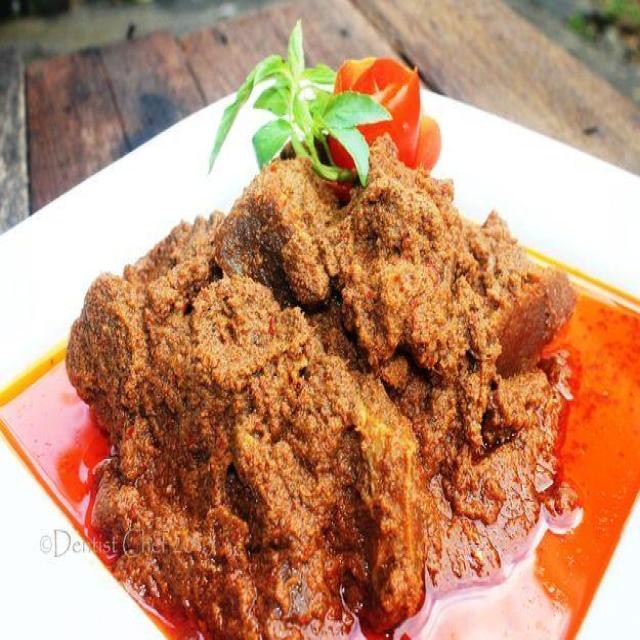Rendang: (65, 133, 592, 630)
